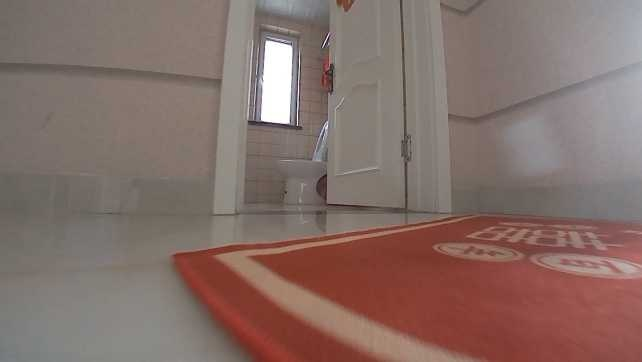blanket: (169, 209, 640, 361)
door_anno: (321, 0, 407, 209)
toilet: (276, 119, 332, 205)
